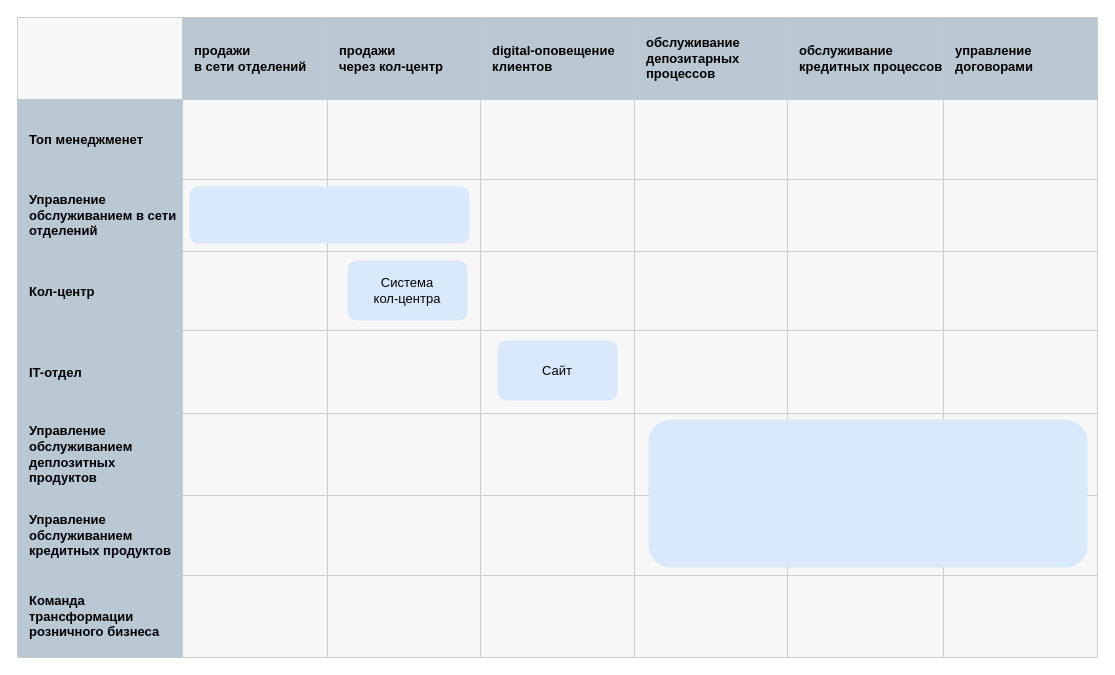
This 1115x675 diagram has some shape labels left out. The centre of each missing label's shape, as x and y in pixels:
АБС: the point at 867,493
Интернет-банк: the point at 329,214
